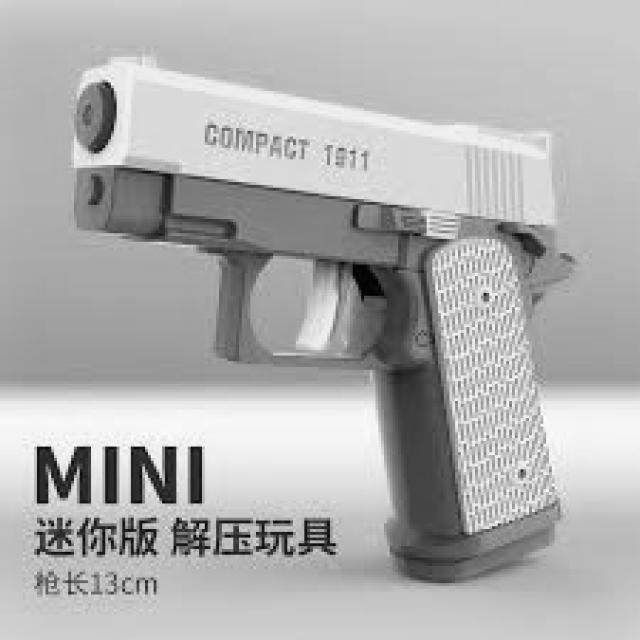gun: (68, 51, 578, 580)
